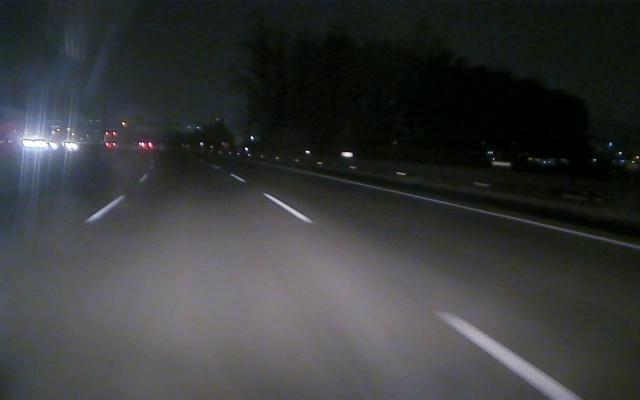lane: (255, 188, 584, 399), (321, 176, 638, 251), (84, 174, 149, 226)
